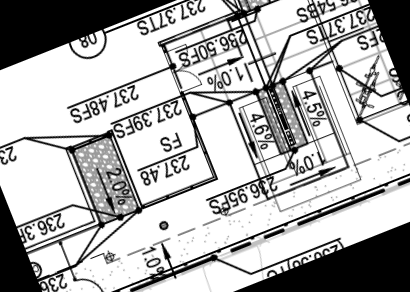door: (73, 270, 106, 292)
double door: (162, 41, 205, 96)
